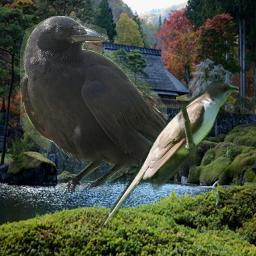Crow: (20, 16, 167, 192)
Cuckoo: (101, 81, 239, 228)
